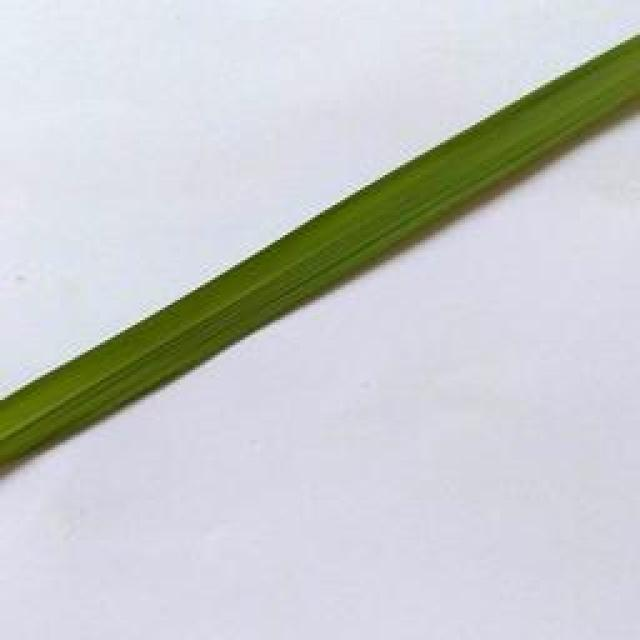Healthy-Plant: (0, 29, 640, 472)
